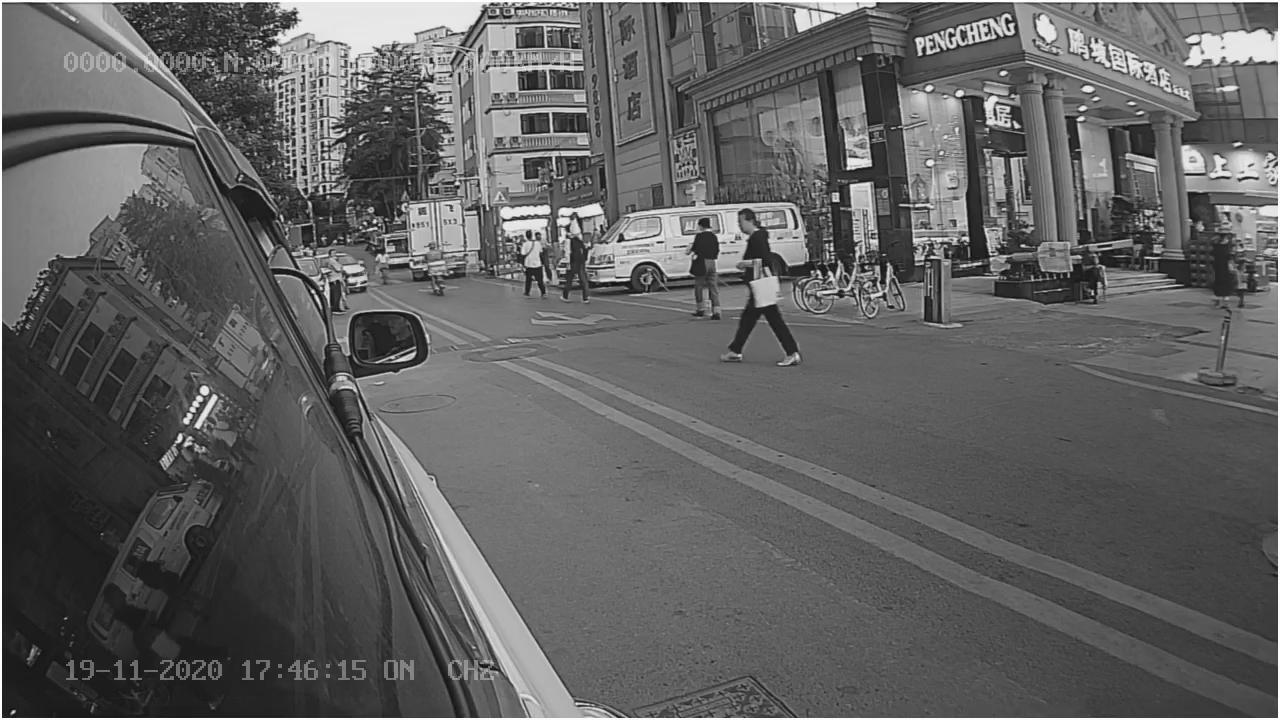person: (718, 207, 805, 376)
